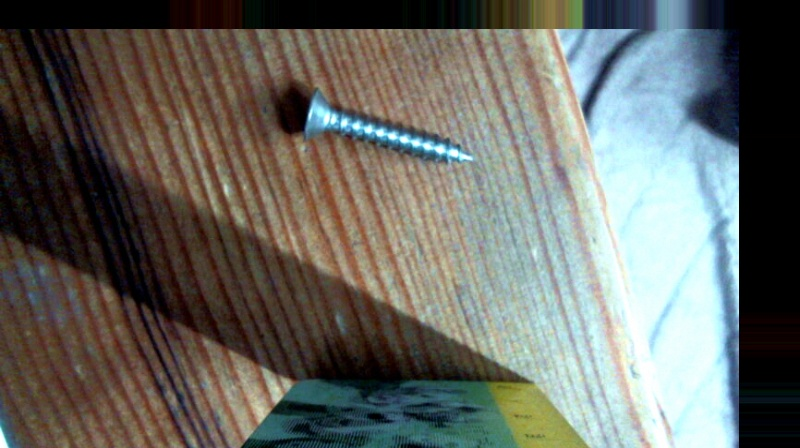S001: (298, 83, 480, 170)
